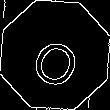O_NE: (25, 23, 85, 87)
